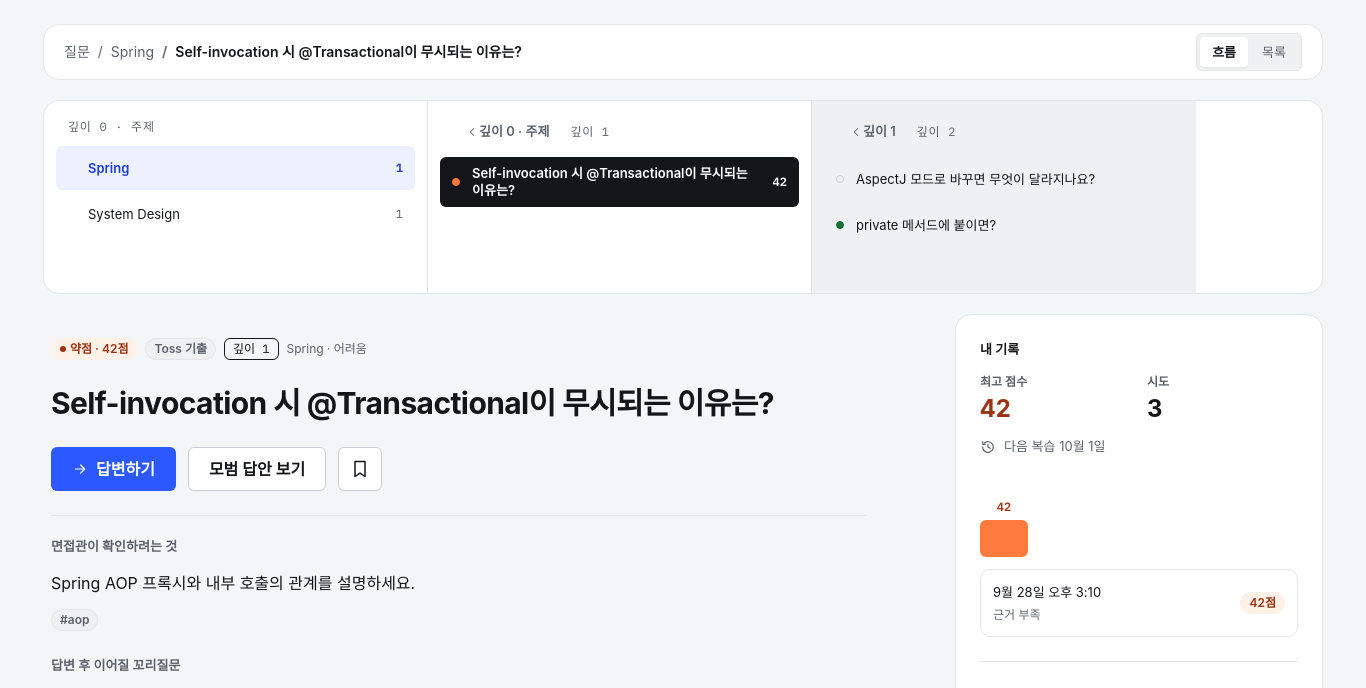
QuestionWorkspacePage › puts a breadcrumb and a 흐름/목록 view switch in the top bar
The image size is (1366, 688).
Check: the list item "Spring" is shown, box [98, 41, 154, 63]
Click the radio button labelled "목록" at (1274, 52), box [1250, 37, 1298, 67]
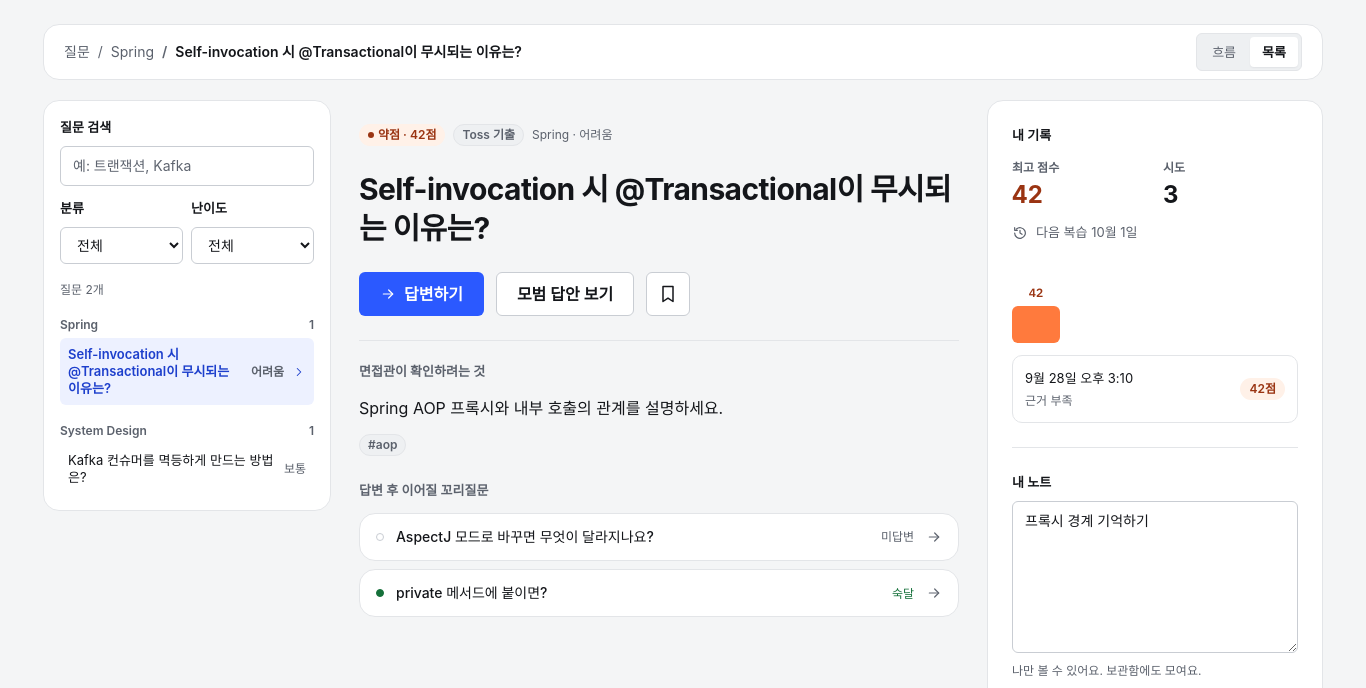
Check: the navigation bar named "질문 목록" is shown, box [43, 100, 331, 511]
